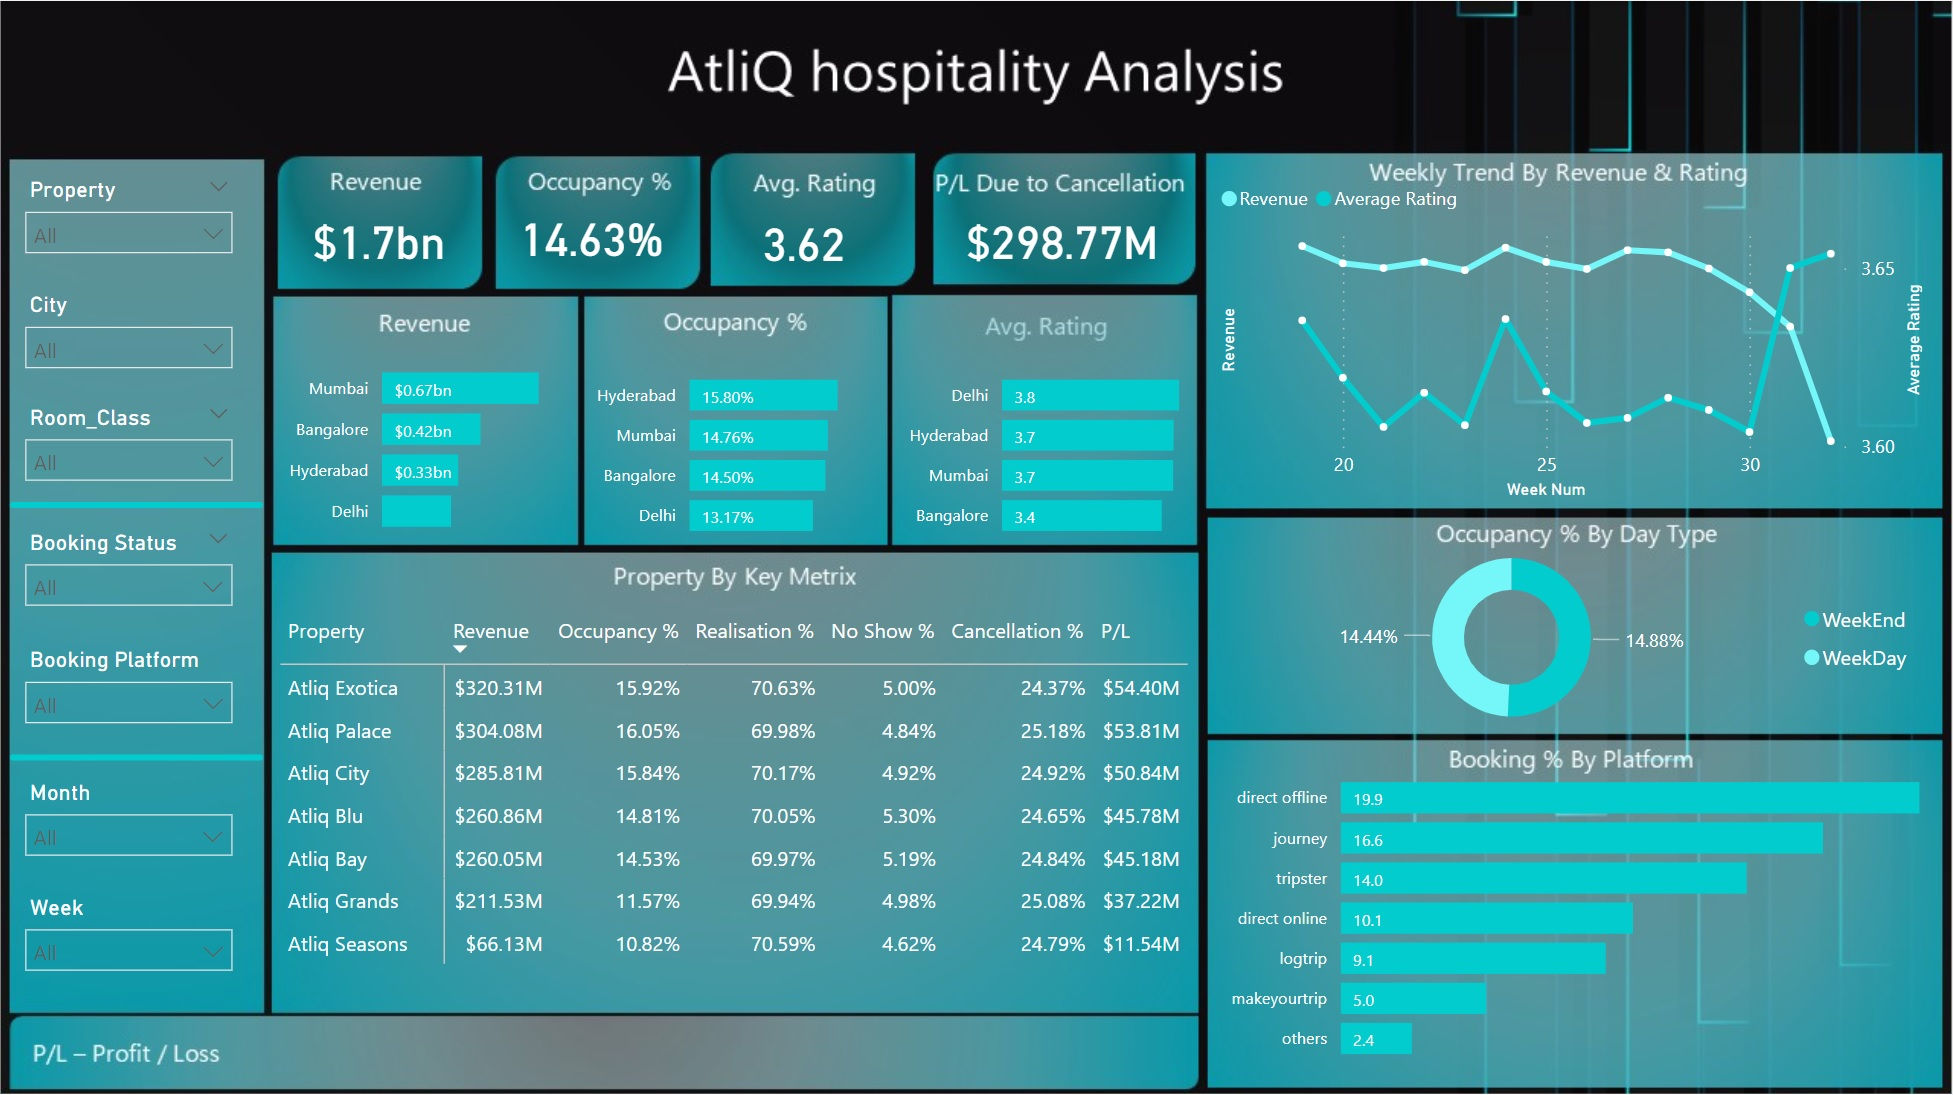

What the dashboard file says about the page in this screenshot:
{"tool":"powerbi","page":{"name":"Revenue","canvas":[1280,720],"ordinal":1},"visuals":[{"type":"slicer","fields":{"Values":["dim_hotels.property_name"]},"box":[6,109.1,156.1,77.2],"z":0},{"type":"slicer","fields":{"Values":["dim_hotels.city"]},"box":[6,184.6,156.1,78.9],"z":1000},{"type":"slicer","fields":{"Values":["fact_bookings.booking_status"]},"box":[6.6,341.1,155.8,77.1],"z":2000},{"type":"slicer","fields":{"Values":["fact_bookings.booking_platform"]},"box":[6,417.8,156.1,78.9],"z":3000},{"type":"slicer","fields":{"Values":["dim_date.Month Name"]},"box":[6.6,505.1,155.8,77.1],"z":4000},{"type":"slicer","fields":{"Values":["dim_date.Week Num"]},"box":[6,580.6,156.1,78.9],"z":5000},{"type":"card","fields":{"Values":["My Measures.Revenue"]},"box":[179.5,127.5,139.3,57.1],"z":6000},{"type":"card","fields":{"Values":["My Measures.Occupany %"]},"box":[318.8,127,139.3,57.1],"z":7000},{"type":"card","fields":{"Values":["My Measures.Average Rating"]},"box":[458.1,129.2,139.3,57.1],"z":8000},{"type":"barChart","fields":{"Category":["dim_hotels.city"],"Y":["My Measures.Revenue"]},"box":[179.7,219.4,198,141.8],"z":9000},{"type":"barChart","fields":{"Category":["dim_hotels.city"],"Y":["My Measures.Occupancy %"]},"box":[382.6,224.9,198,139.3],"z":10000},{"type":"barChart","fields":{"Category":["dim_hotels.city"],"Y":["My Measures.Average Rating"]},"box":[587.3,224.9,198,139.3],"z":11000},{"type":"pivotTable","fields":{"Rows":["dim_hotels.property_name"],"Values":["My Measures.Revenue","My Measures.Occupany %","My Measures.Realisation %","My Measures.No Show %","My Measures.Cancellation %","My Measures.P/L"]},"box":[179.5,394.3,605.8,263.5],"z":12000},{"type":"lineChart","fields":{"Category":["dim_date.Week Num"],"Y":["My Measures.Revenue"],"Y2":["My Measures.Average Rating"]},"box":[795.4,109.9,470.7,221.4],"z":13000},{"type":"barChart","fields":{"Category":["fact_bookings.booking_platform"],"Y":["My Measures.Booking % By Platform"]},"box":[795.4,488.3,470,218.1],"z":14000},{"type":"donutChart","fields":{"Category":["dim_date.Day Type"],"Y":["My Measures.Occupany %"]},"box":[795.4,345.7,470,142.6],"z":15000},{"type":"card","fields":{"Values":["My Measures.P/L"]},"box":[609.1,127.5,176.2,57.1],"z":16000},{"type":"slicer","fields":{"Values":["dim_rooms.Room_Class"]},"box":[6,258.4,156.1,78.9],"z":17000},{"type":"shape","box":[6.7,288.6,166.1,83.9],"z":18000},{"type":"shape","box":[6.7,454.7,166.1,83.9],"z":19000}]}

Visuals, with their boxes in screenshot pixels (x1, y1, x2, y2), scaled from the page's 1280x720 canvas onto the 1953x1095 screenshot:
slicer - dim_hotels.property_name: region(9, 166, 247, 283)
slicer - dim_hotels.city: region(9, 281, 247, 401)
slicer - fact_bookings.booking_status: region(10, 519, 248, 636)
slicer - fact_bookings.booking_platform: region(9, 635, 247, 755)
slicer - dim_date.Month Name: region(10, 768, 248, 885)
slicer - dim_date.Week Num: region(9, 883, 247, 1003)
card - My Measures.Revenue: region(274, 194, 486, 281)
card - My Measures.Occupany %: region(486, 193, 699, 280)
card - My Measures.Average Rating: region(699, 196, 912, 283)
barChart - dim_hotels.city x My Measures.Revenue: region(274, 334, 576, 549)
barChart - dim_hotels.city x My Measures.Occupancy %: region(584, 342, 886, 554)
barChart - dim_hotels.city x My Measures.Average Rating: region(896, 342, 1198, 554)
pivotTable - dim_hotels.property_name x My Measures.Revenue: region(274, 600, 1198, 1000)
lineChart - dim_date.Week Num x My Measures.Revenue: region(1214, 167, 1932, 504)
barChart - fact_bookings.booking_platform x My Measures.Booking % By Platform: region(1214, 743, 1931, 1074)
donutChart - dim_date.Day Type x My Measures.Occupany %: region(1214, 526, 1931, 743)
card - My Measures.P/L: region(929, 194, 1198, 281)
slicer - dim_rooms.Room_Class: region(9, 393, 247, 513)
shape: region(10, 439, 264, 567)
shape: region(10, 692, 264, 819)
